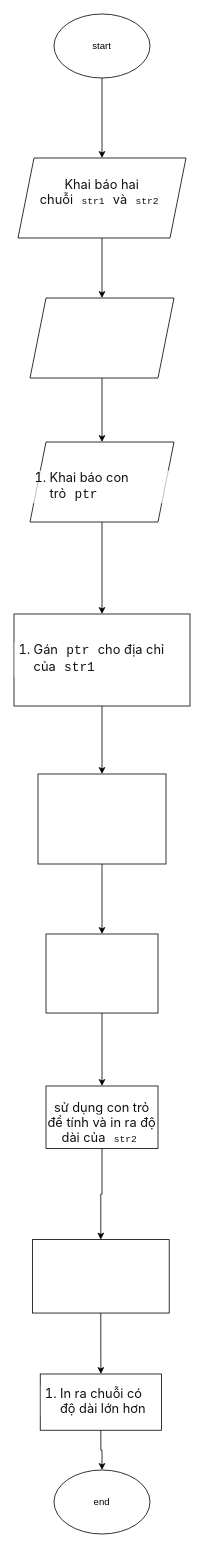
Image size: 204x1548. Some labels were removed from this diagram. Each missing label, with the centre of its shape:
"Gán ptr cho địa chỉ của str2" goes at pixel 101 973.
"Nhập giá trị cho str1 và str2" goes at pixel 101 337.
"so sánh độ dài của str1 và str2" goes at pixel 100 1276.
"Sử dụng con trỏ để tính và in ra độ dài của str1" goes at pixel 101 818.
